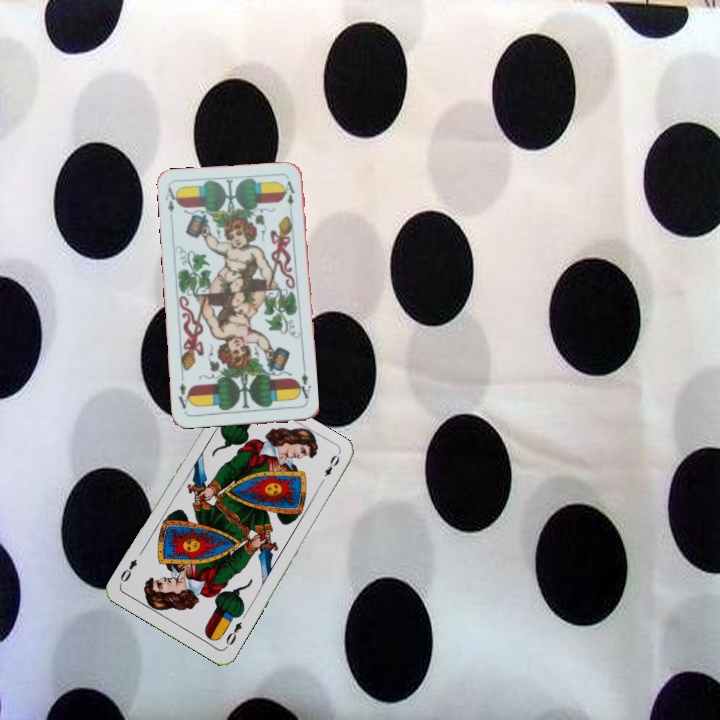EA: (293, 364, 313, 404), (161, 183, 181, 215)
EO: (222, 618, 244, 648)
